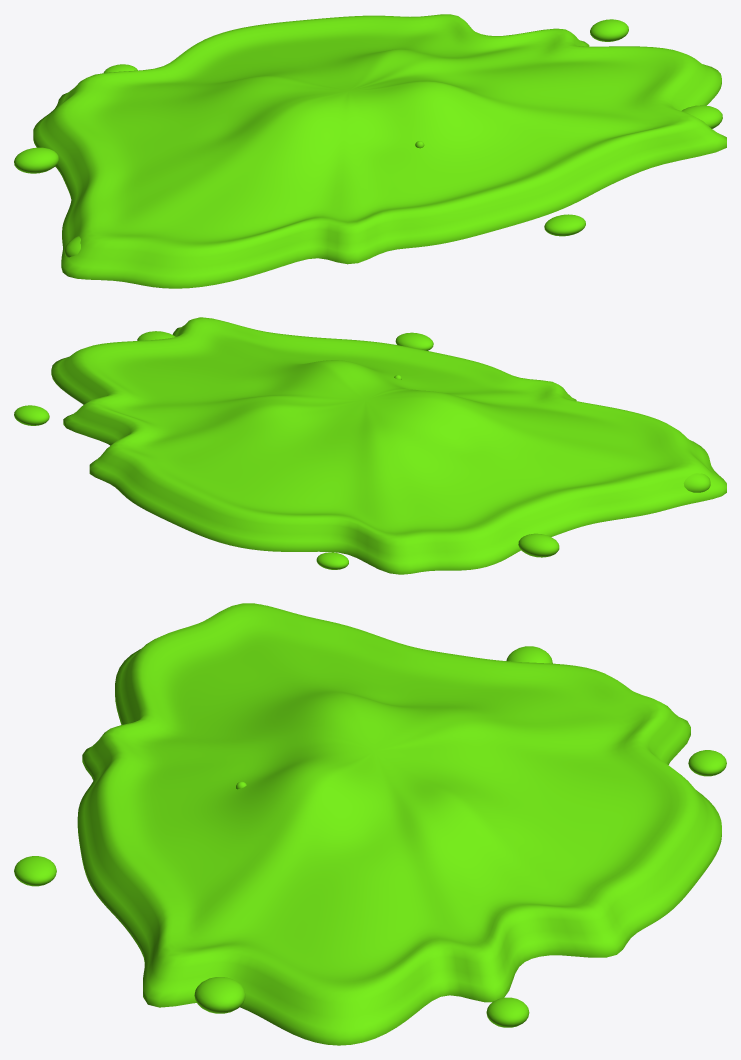
File: Gosma_Baba_de_Bruxa.obj
3 views of the same model, one above another, from view 1: azimuth 30°, elevation 25°; view 2: azimuth 150°, elevation 25°; view 3: azimuth 270°, elevation 25° (orthographic). The views are drawn at different scales.
Size of the model in its own units: 4.69 by 0.4713 by 3.32.
